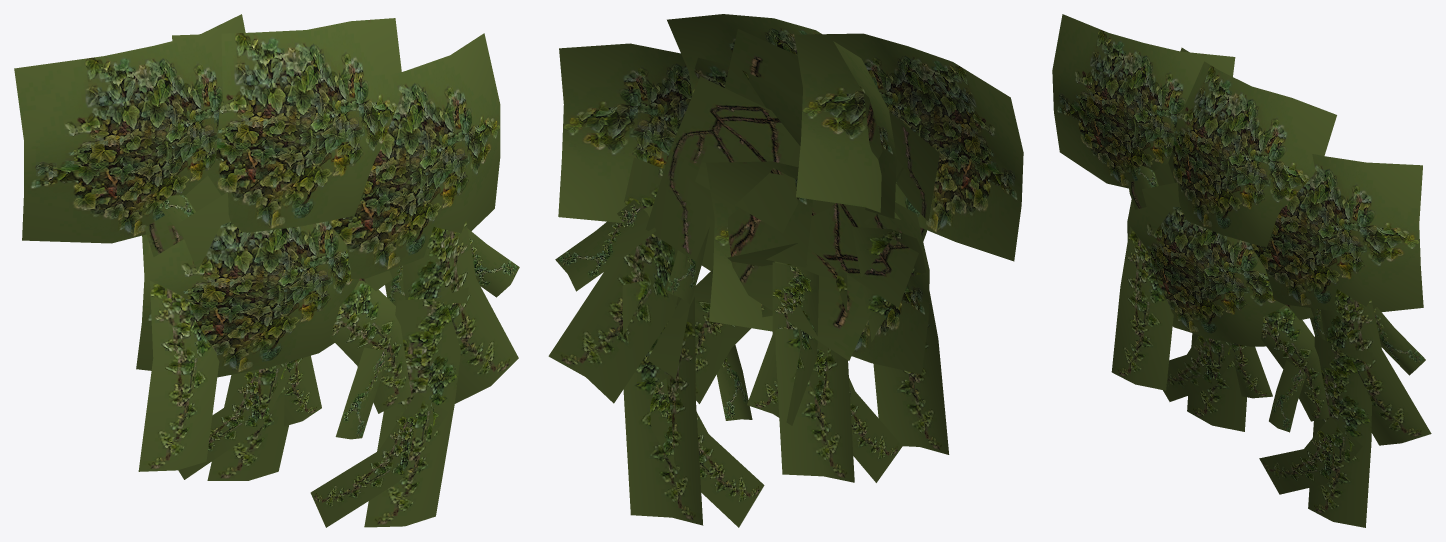
Rendered from Vine0.fbx.
3 renders of one model, left to right at view 1: azimuth 30°, elevation 25°; view 2: azimuth 150°, elevation 25°; view 3: azimuth 330°, elevation 25°, orthographic. The views are drawn at different scales.
Visible parts, largest first — view 1: LV_Common_Plant_A_Vine04_SM_JSA; view 2: LV_Common_Plant_A_Vine04_SM_JSA; view 3: LV_Common_Plant_A_Vine04_SM_JSA.
Boxes of the visible parts, left/top/right/bottom form: LV_Common_Plant_A_Vine04_SM_JSA: left=14, top=14, right=519, bottom=527; LV_Common_Plant_A_Vine04_SM_JSA: left=548, top=14, right=1023, bottom=527; LV_Common_Plant_A_Vine04_SM_JSA: left=1052, top=14, right=1431, bottom=527.
Size of the model in its own units: 1.17 by 1.24 by 0.204.
Materials: 1 (1 with a texture image).
